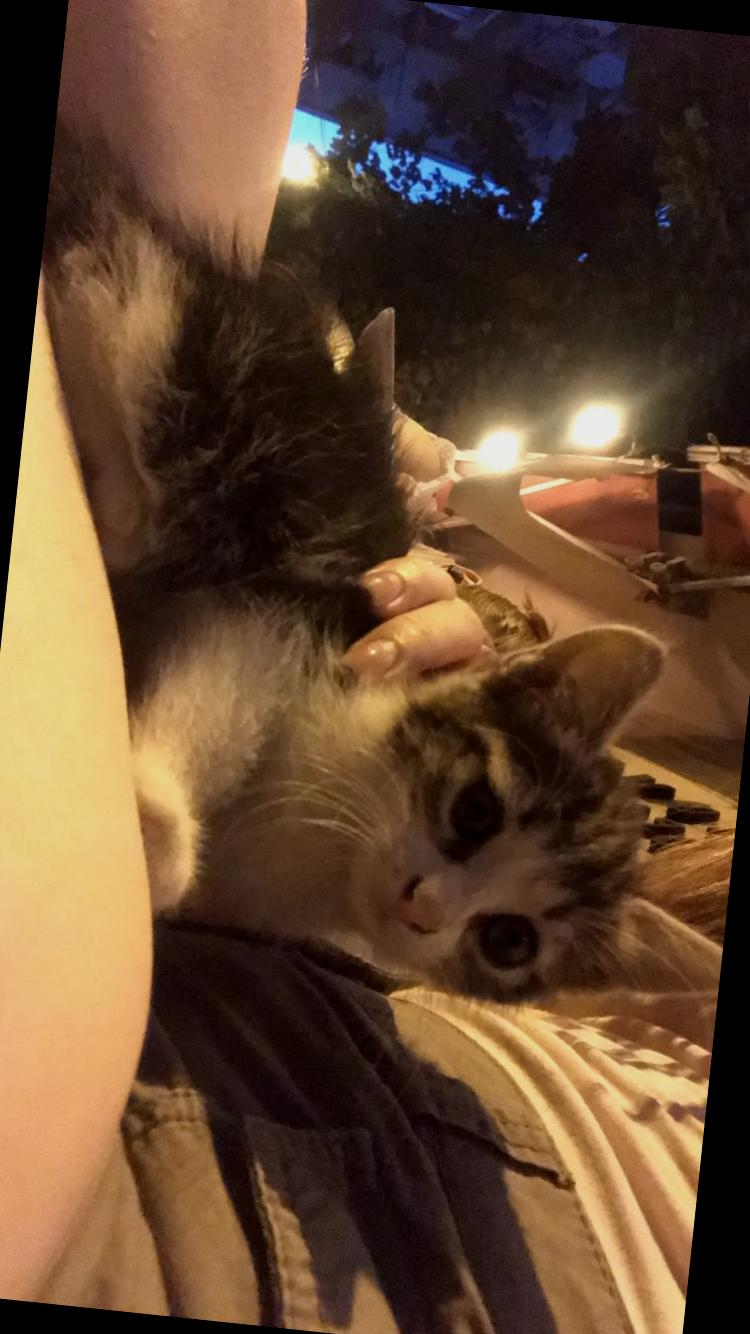macka: (0, 117, 750, 1025)
